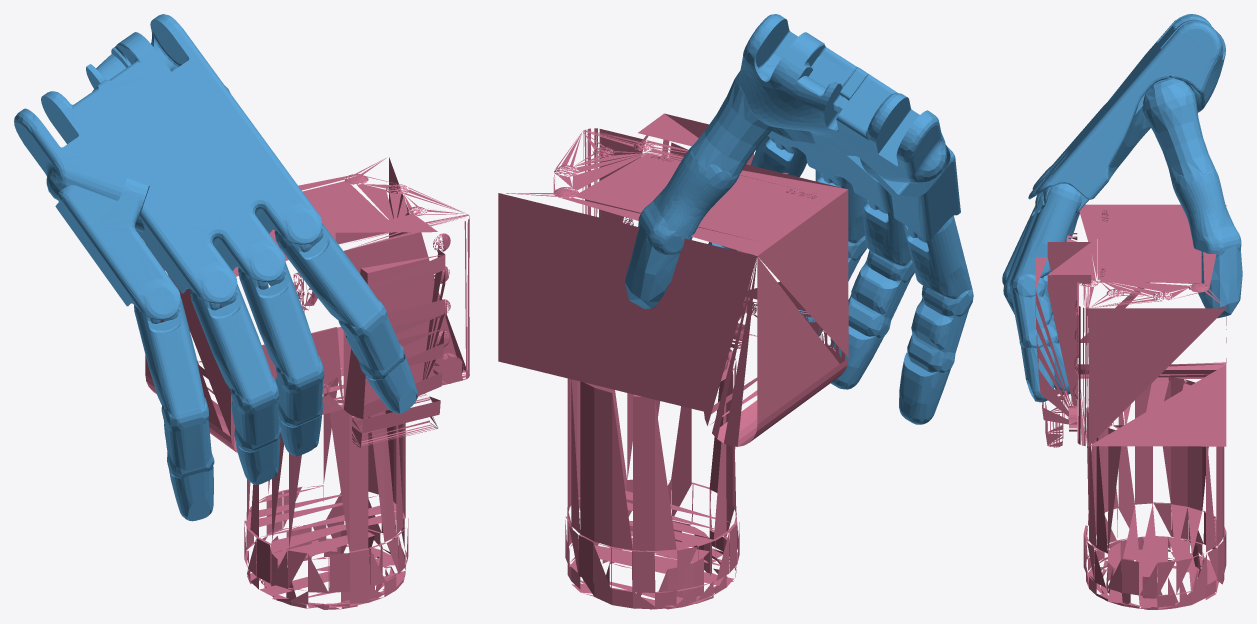
3 views of the same model, side by side, from view 1: azimuth 30°, elevation 25°; view 2: azimuth 150°, elevation 25°; view 3: azimuth 270°, elevation 25° (orthographic). The views are drawn at different scales.
Visible parts, largest first — view 1: 5; view 2: 5; view 3: 5.
Boxes of the visible parts, bbox=[...] form: 5: bbox=[14, 14, 469, 609]; 5: bbox=[498, 14, 973, 609]; 5: bbox=[1002, 14, 1242, 609].
Size of the model in its own units: 0.1832 by 0.2624 by 0.1128.
